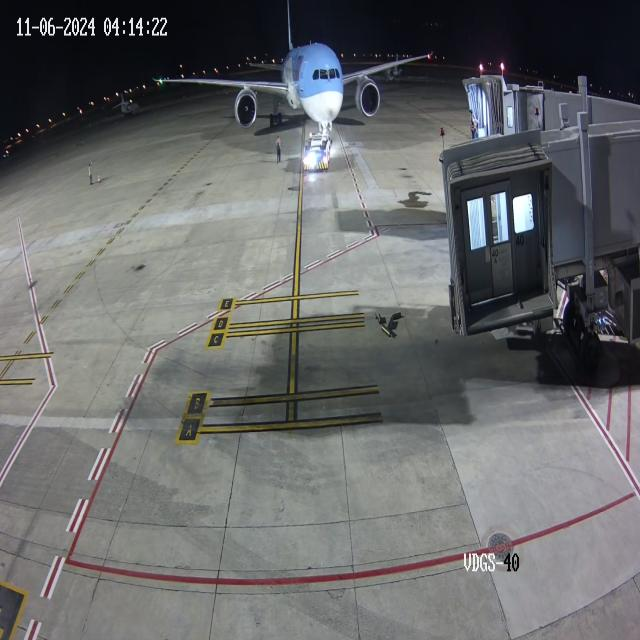plane: (151, 0, 434, 130)
window: (310, 58, 340, 86)
